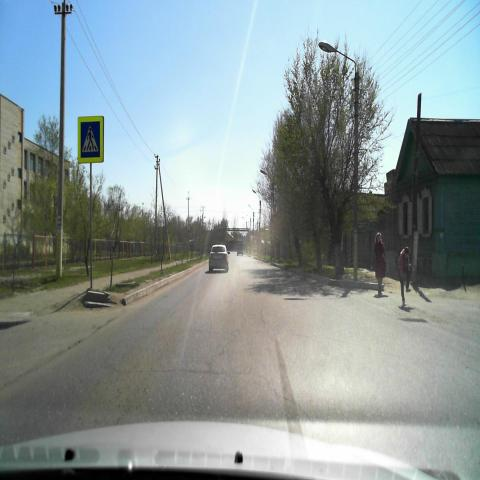5_19_1: (77, 117, 103, 164)
